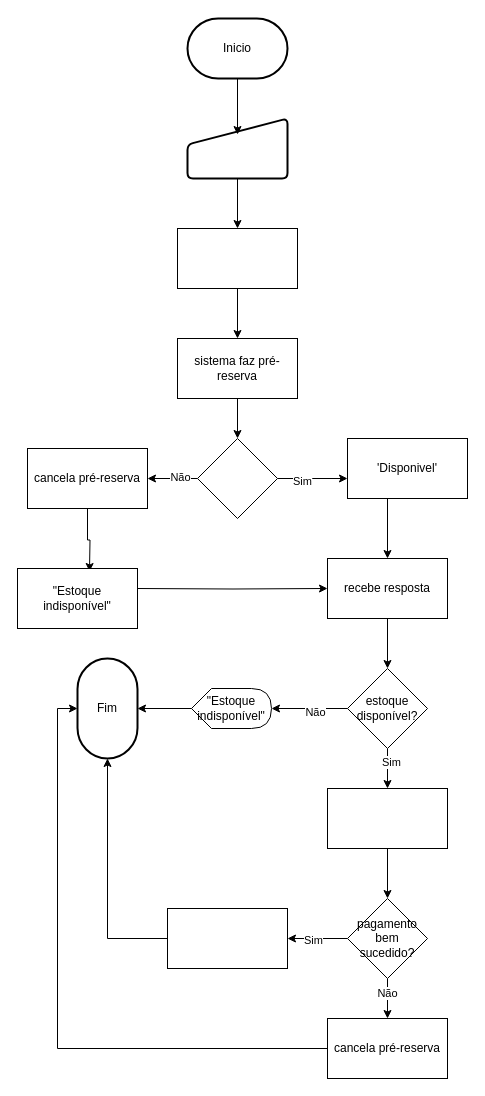
Some shapes in this 485 by 1096 pixel diagram are drawn without their labels. Here are the shapes that lost their labels. From the top down, the box of each, then its label:
(186, 117, 288, 179): Usuario Clica comprar
(176, 228, 298, 288): sistema recebe requisição da compra
(196, 438, 278, 518): estoque real?
(326, 788, 448, 848): processar pagamento
(166, 908, 288, 968): criar pedido final no bando de dados
